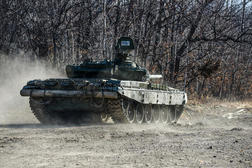t72: (23, 59, 189, 123)
